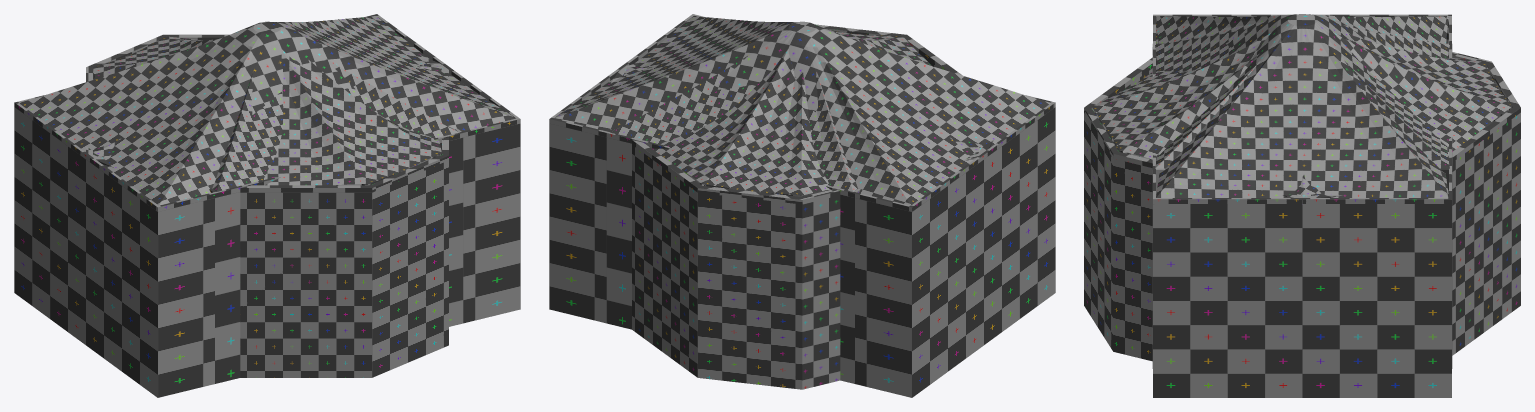
Rendered from umbrella.glb.
3 renders of one model, left to right at view 1: azimuth 30°, elevation 25°; view 2: azimuth 150°, elevation 25°; view 3: azimuth 270°, elevation 25°, orthographic. The views are drawn at different scales.
Parts seen in each view (by area): view 1: Rectangular_Cover, Truncated_Cover, Rectangular_Canopy, Truncated_Canopy, Square_Cover, Square_Canopy, Truncated_GUTTER, Rectangular_Gutter; view 2: Rectangular_Cover, Truncated_Cover, Rectangular_Canopy, Truncated_Canopy, Square_Cover, Square_Canopy, Truncated_GUTTER, Rectangular_Gutter; view 3: Rectangular_Cover, Rectangular_Canopy, Truncated_Cover, Truncated_Canopy, Square_Canopy, Rectangular_Gutter, Truncated_GUTTER, Square_Cover.
Part boxes in pixels (<box>): Rectangular_Cover: <box>14,107,520,397</box>; Truncated_Cover: <box>93,73,448,377</box>; Rectangular_Canopy: <box>19,16,515,205</box>; Truncated_Canopy: <box>93,36,441,185</box>; Square_Cover: <box>215,137,463,383</box>; Square_Canopy: <box>212,55,459,191</box>; Truncated_GUTTER: <box>86,34,448,192</box>; Rectangular_Gutter: <box>14,14,520,211</box>; Rectangular_Cover: <box>549,107,1055,397</box>; Truncated_Cover: <box>632,56,937,389</box>; Rectangular_Canopy: <box>554,16,1050,205</box>; Truncated_Canopy: <box>623,29,981,195</box>; Square_Cover: <box>606,137,854,383</box>; Square_Canopy: <box>610,55,857,191</box>; Truncated_GUTTER: <box>611,24,994,204</box>; Rectangular_Gutter: <box>549,14,1055,211</box>; Rectangular_Cover: <box>1153,39,1451,397</box>; Rectangular_Canopy: <box>1156,14,1448,197</box>; Truncated_Cover: <box>1084,65,1520,397</box>; Truncated_Canopy: <box>1092,31,1512,195</box>; Square_Canopy: <box>1155,25,1449,168</box>; Rectangular_Gutter: <box>1153,14,1451,203</box>; Truncated_GUTTER: <box>1084,52,1520,204</box>; Square_Cover: <box>1152,175,1452,368</box>.
Bounding box in the file's own units: 4.82 × 3.47 × 4.82.
3 materials, 3 textured.
